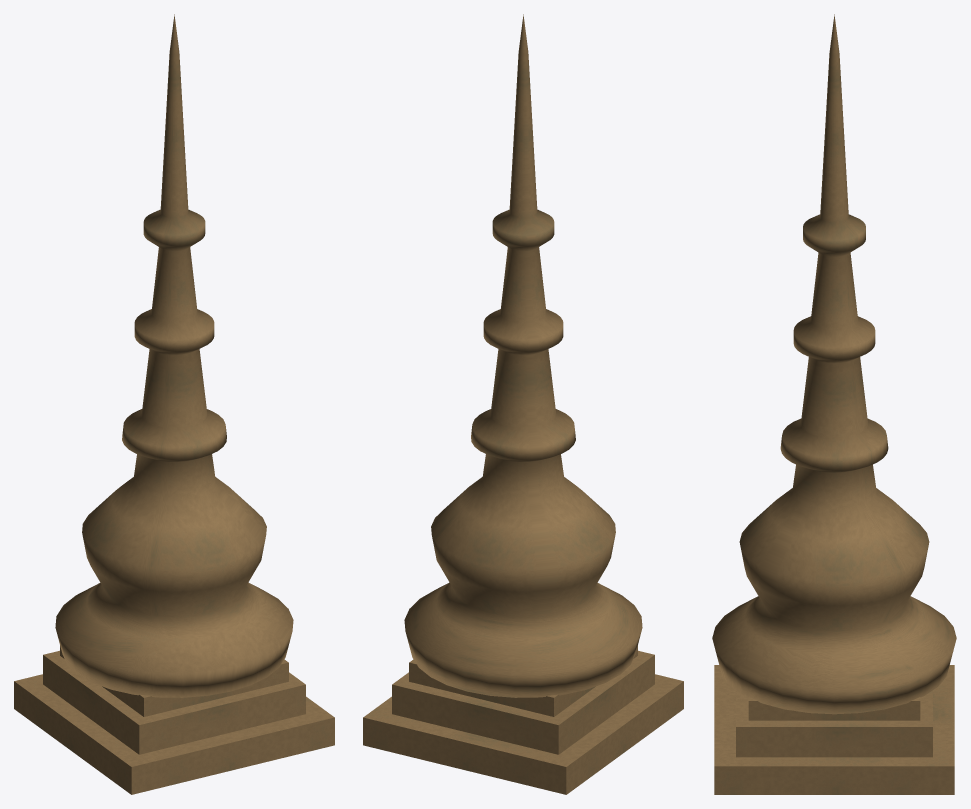
3 views of the same model, side by side, from view 1: azimuth 30°, elevation 25°; view 2: azimuth 150°, elevation 25°; view 3: azimuth 270°, elevation 25° (orthographic). The views are drawn at different scales.
Visible parts, largest first — view 1: ThreeRingNeedle_bronze, SquareLotusSeat_bronze; view 2: ThreeRingNeedle_bronze, SquareLotusSeat_bronze; view 3: ThreeRingNeedle_bronze, SquareLotusSeat_bronze.
Part boxes in pixels (x1,y1,x2,y2): ThreeRingNeedle_bronze: [55, 14, 293, 697]; SquareLotusSeat_bronze: [14, 645, 334, 794]; ThreeRingNeedle_bronze: [404, 14, 642, 697]; SquareLotusSeat_bronze: [363, 645, 683, 794]; ThreeRingNeedle_bronze: [712, 14, 956, 714]; SquareLotusSeat_bronze: [714, 665, 954, 794].
Bounding box in the file's own units: 1.24 × 4.09 × 1.24.
Materials: 2 (2 with a texture image).
